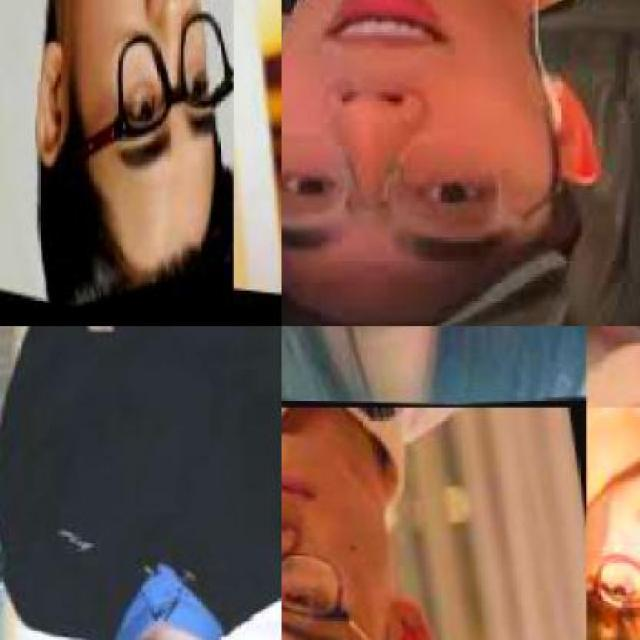mask: (282, 114, 524, 252), (64, 0, 230, 159), (282, 551, 399, 639), (588, 543, 638, 639)
